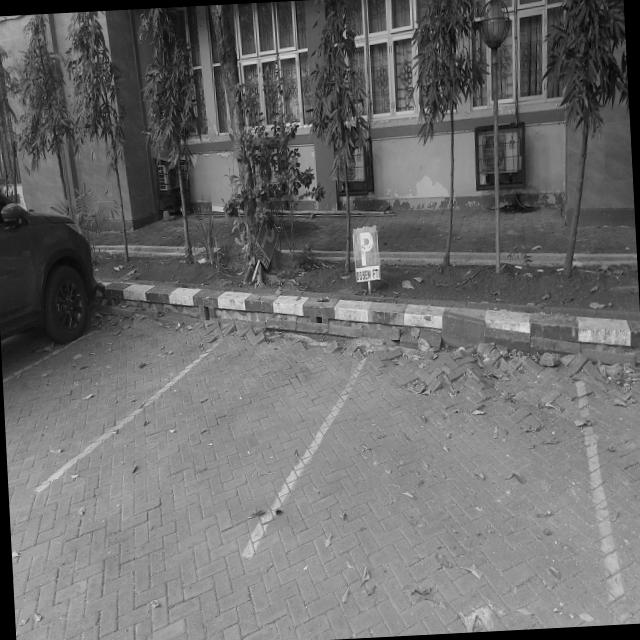free: (250, 350, 619, 600), (35, 336, 366, 552), (3, 310, 228, 489)
